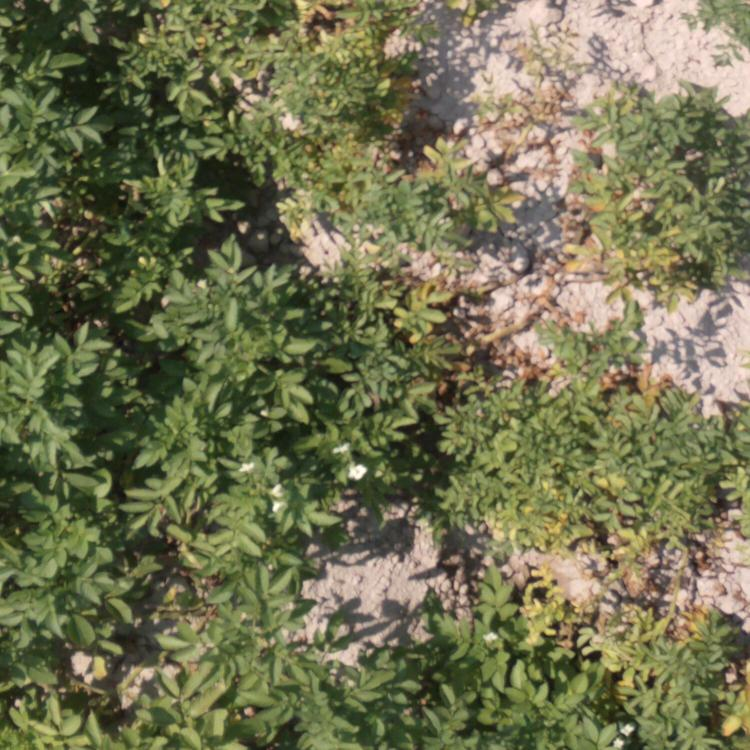healthy: (1, 282, 373, 547), (1, 1, 264, 281), (1, 554, 325, 750), (321, 622, 512, 745)
stressed: (448, 336, 750, 552), (534, 87, 747, 281), (529, 563, 750, 740), (290, 128, 521, 239), (287, 1, 417, 121), (398, 249, 442, 457), (692, 2, 742, 54)
